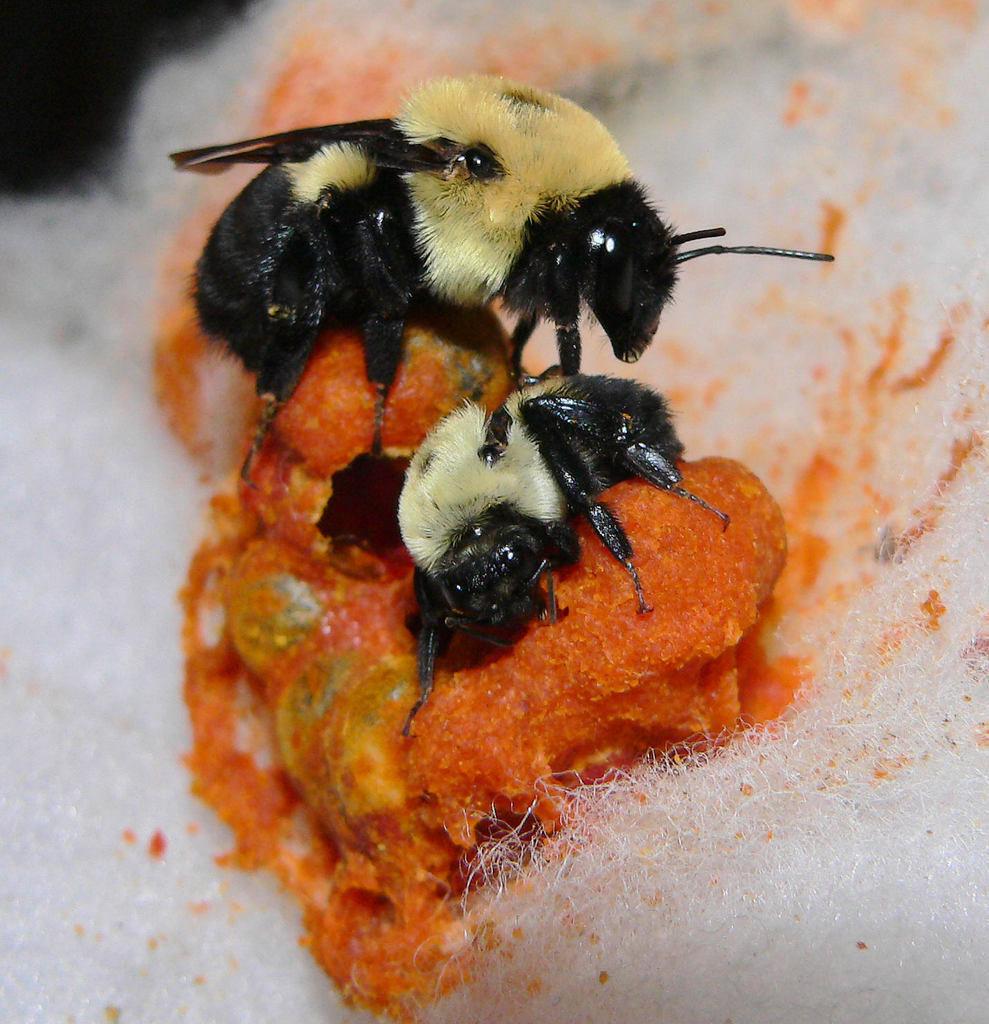bumblebee: (168, 72, 840, 465), (404, 370, 733, 737)
